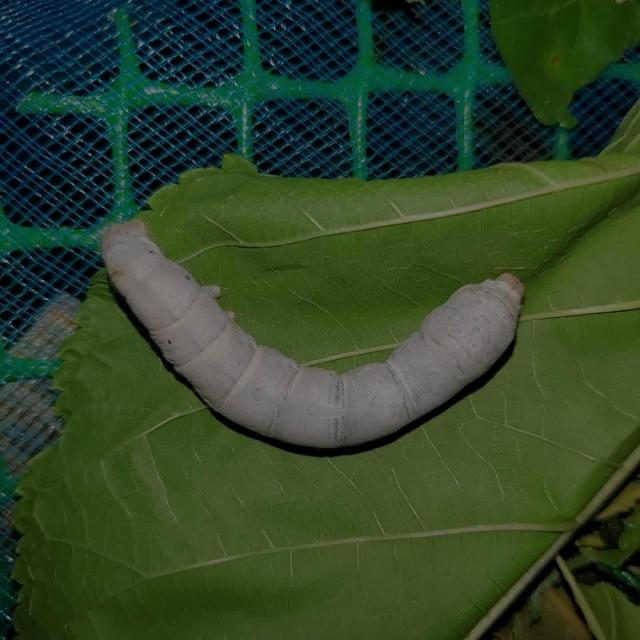Healthy: (93, 211, 530, 456)
